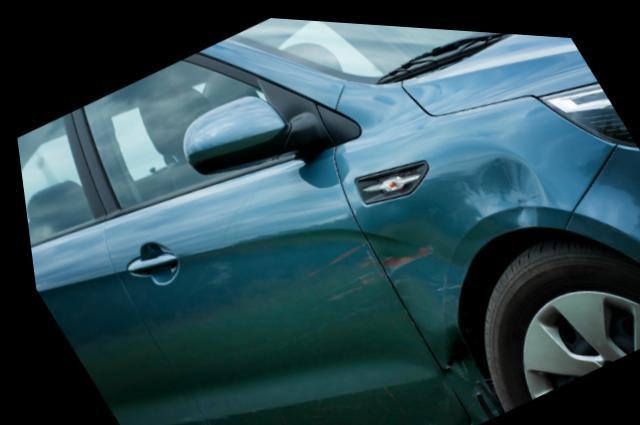dent: (364, 150, 541, 376)
scratch: (300, 235, 393, 309)
